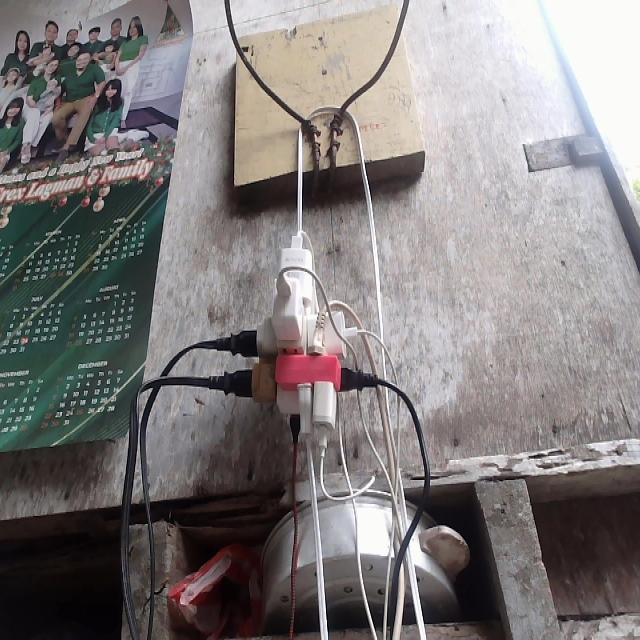-: (203, 229, 379, 459)
